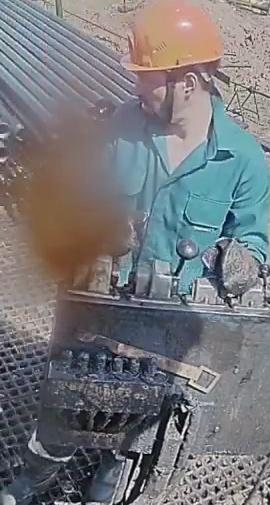gloves: (200, 236, 264, 298)
helmet: (119, 0, 224, 85)
vest: (101, 91, 268, 297)
